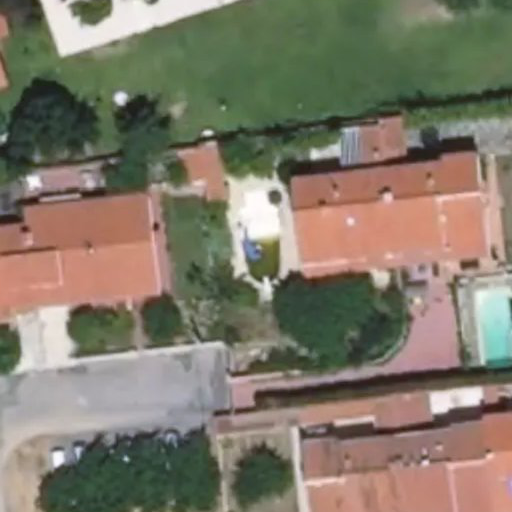pool: (245, 194, 282, 282), (476, 291, 512, 369)
